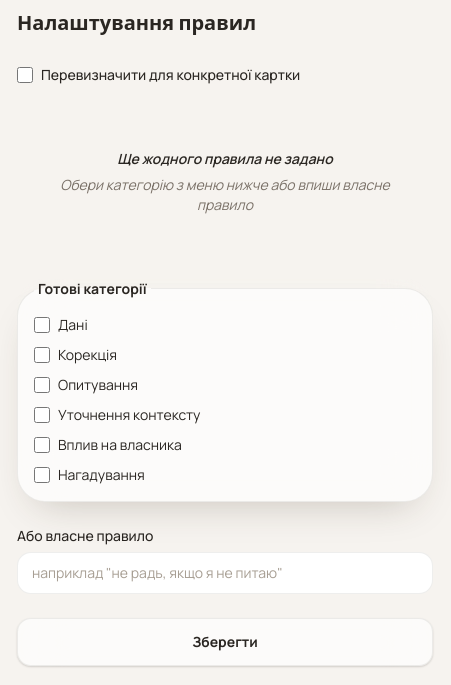
conflict: часткова відмова (Promise.allSettled) -- успішна категорія лишається збереженою, зникає з обраних, лише відхилена категорія лишається позначеною й пок
Expected: the text "Дані" is shown, [34,314,88,334]
Click the checkbox labelled "Дані": (42, 324) [34,316,50,332]
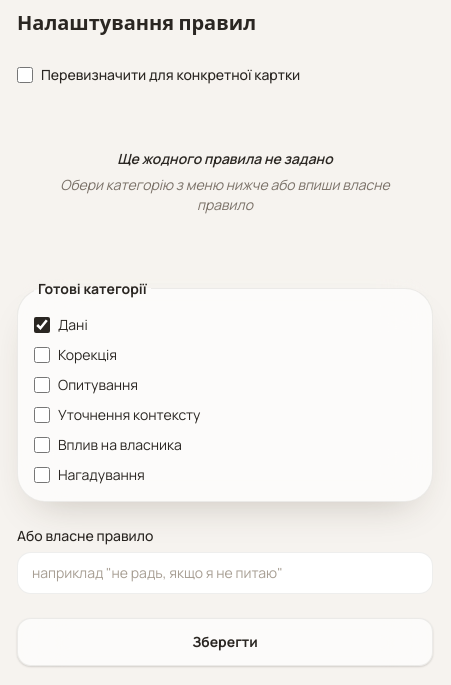
Click the checkbox labelled "Корекція": (42, 354) [34,346,50,362]
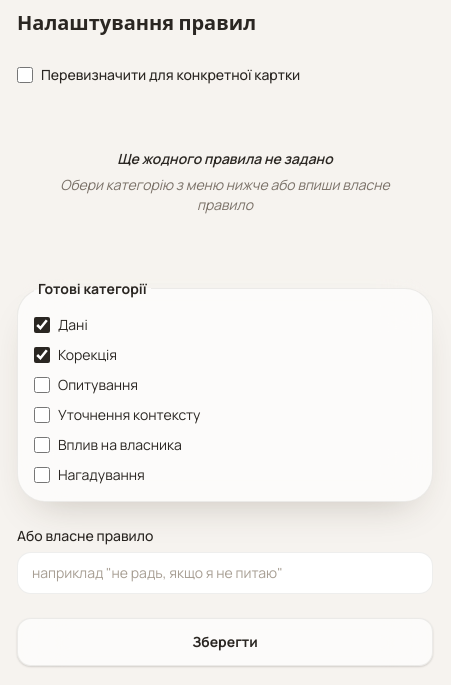
Click the button "Зберегти": (225, 642) [17,618,433,666]
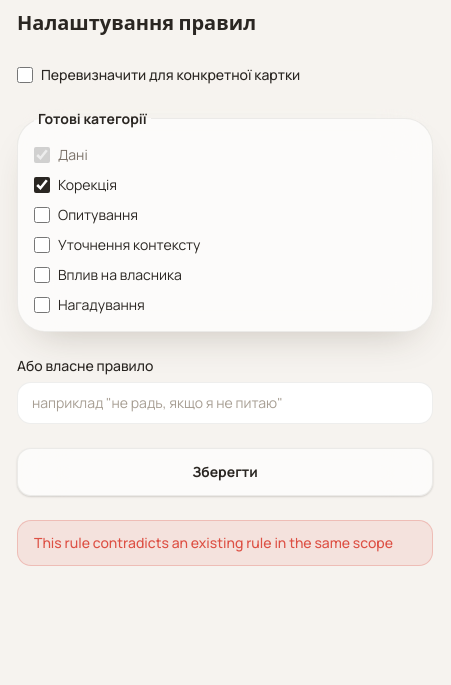
Expected: the checkbox labelled "Дані" is checked, [34,146,50,162]
Expected: the checkbox labelled "Корекція" is checked, [34,176,50,192]
Expected: the checkbox labelled "Дані" is disabled, [34,146,50,162]
